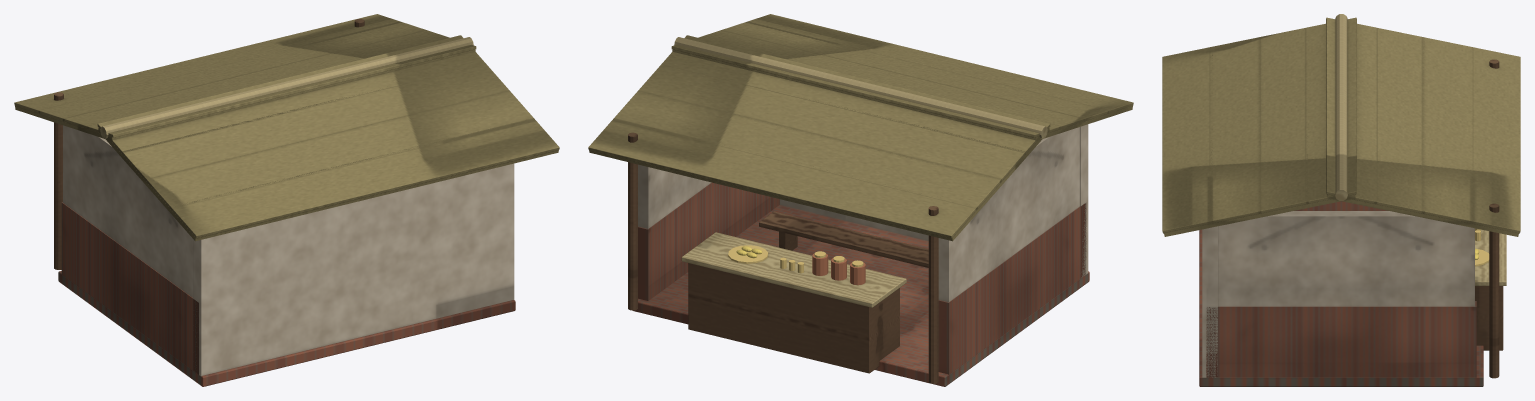
File: chaya_kada.glb
3 views of the same model, side by side, from view 1: azimuth 30°, elevation 25°; view 2: azimuth 150°, elevation 25°; view 3: azimuth 270°, elevation 25° (orthographic).
Parts seen in each view (by area): view 1: Wall_Back, Roof_Back_Course_0, Roof_Back_Course_1, Roof_Back_Course_2, Wall_SideU_-2.4, Wall_Side_-2.4, Roof_Back_Course_3, Roof_Front_Course_2, Floor_Plinth, Roof_Front_Course_3, Roof_Front_Course_1, Roof_Ridge (+4 smaller); view 2: Serving_Counter, Roof_Front_Course_3, Roof_Front_Course_2, Roof_Front_Course_1, Wall_SideU_-2.4, Wall_Side_-2.4, Floor_Plinth, Roof_Front_Course_0, Wall_Side_2.4, Counter_Slab, Roof_Back_Course_1, Roof_Back_Course_0 (+11 smaller); view 3: Wall_SideU_2.4, Wall_Side_2.4, Roof_Front_Course_2, Roof_Back_Course_1, Roof_Back_Course_0, Roof_Front_Course_3, Roof_Back_Course_2, Roof_Front_Course_1, Roof_Back_Course_3, Roof_Front_Course_0, Floor_Plinth, Roof_Ridge (+7 smaller).
Part boxes in pixels (box(x1,y1,x2,y2)): Wall_Back: box(193, 163, 514, 376); Roof_Back_Course_0: box(170, 118, 559, 238); Roof_Back_Course_1: box(146, 90, 534, 208); Roof_Back_Course_2: box(122, 64, 508, 182); Wall_SideU_-2.4: box(63, 125, 193, 297); Wall_Side_-2.4: box(61, 202, 198, 374); Roof_Back_Course_3: box(97, 35, 486, 154); Roof_Front_Course_2: box(38, 22, 426, 120); Floor_Plinth: box(58, 271, 515, 386); Roof_Front_Course_3: box(14, 14, 400, 113); Roof_Front_Course_1: box(63, 30, 449, 129); Roof_Ridge: box(100, 37, 473, 138); Serving_Counter: box(688, 263, 899, 373); Roof_Front_Course_3: box(588, 119, 977, 238); Roof_Front_Course_2: box(613, 90, 1001, 208); Roof_Front_Course_1: box(639, 64, 1025, 182); Wall_SideU_-2.4: box(938, 127, 1079, 302); Wall_Side_-2.4: box(938, 203, 1086, 374); Floor_Plinth: box(633, 205, 1089, 386); Roof_Front_Course_0: box(661, 35, 1050, 154); Wall_Side_2.4: box(638, 182, 779, 300); Counter_Slab: box(681, 232, 906, 307); Roof_Back_Course_1: box(721, 22, 1109, 120); Roof_Back_Course_0: box(747, 14, 1133, 113); Wall_SideU_2.4: box(1218, 211, 1474, 306); Wall_Side_2.4: box(1206, 301, 1476, 377); Roof_Front_Course_2: box(1422, 37, 1472, 223); Roof_Back_Course_1: box(1210, 37, 1260, 223); Roof_Back_Course_0: box(1162, 47, 1213, 233); Roof_Front_Course_3: box(1470, 47, 1520, 233); Roof_Back_Course_2: box(1258, 28, 1308, 213); Roof_Front_Course_1: box(1374, 28, 1424, 213); Roof_Back_Course_3: box(1305, 17, 1356, 203); Roof_Front_Course_0: box(1326, 17, 1377, 204); Floor_Plinth: box(1199, 229, 1483, 386); Roof_Ridge: box(1335, 14, 1347, 200).
Size of the model in its own units: 5.86 by 3.27 by 5.04.
2 materials, 1 textured.
